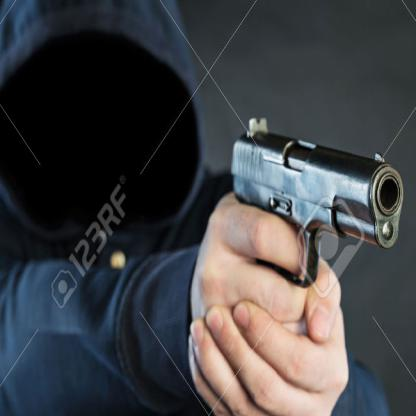gun: (229, 117, 405, 289)
